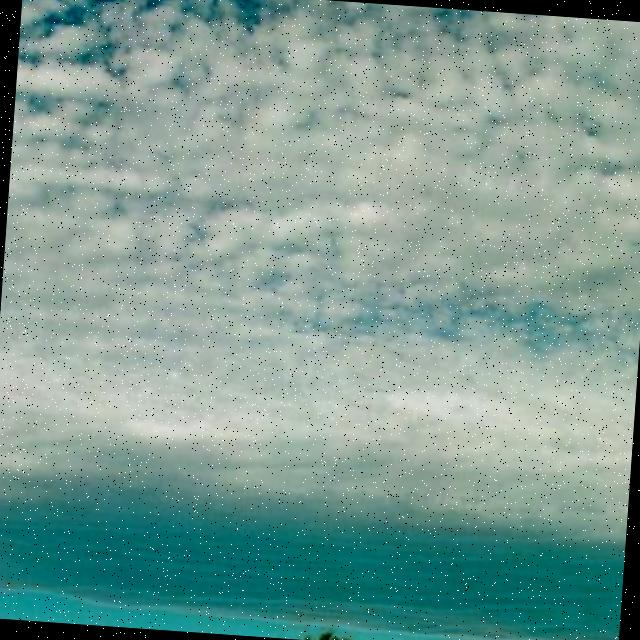Ac: (1, 1, 640, 564)
